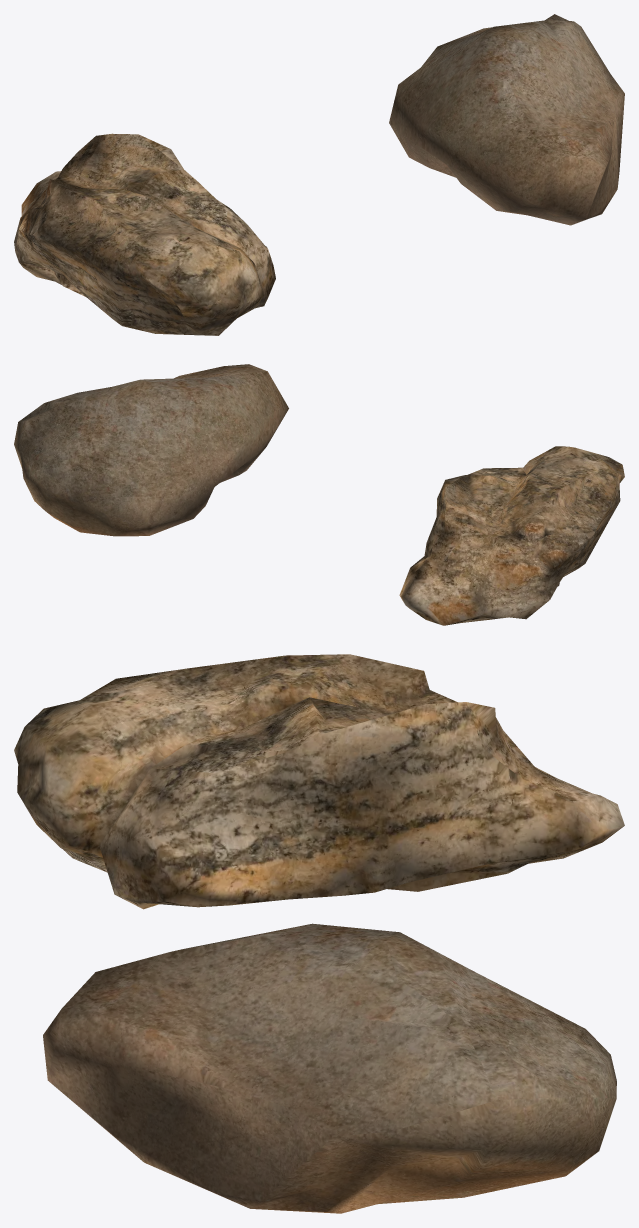
File: boulders.glb
The picture shows the model from 3 angles, top to bottom: view 1: azimuth 30°, elevation 25°; view 2: azimuth 150°, elevation 25°; view 3: azimuth 270°, elevation 25°; orthographic projection. The views are drawn at different scales.
Parts seen in each view (by area): view 1: namaqualand_rocks_01_a; view 2: namaqualand_rocks_01_a; view 3: namaqualand_rocks_01_a.
Boxes of the visible parts, box(x1,y1,x2,y2) form: namaqualand_rocks_01_a: box(14, 14, 624, 335); namaqualand_rocks_01_a: box(14, 364, 624, 625); namaqualand_rocks_01_a: box(14, 654, 624, 1213).
Size of the model in its own units: 1.05 by 0.2482 by 0.5839.
1 material, 1 textured.
